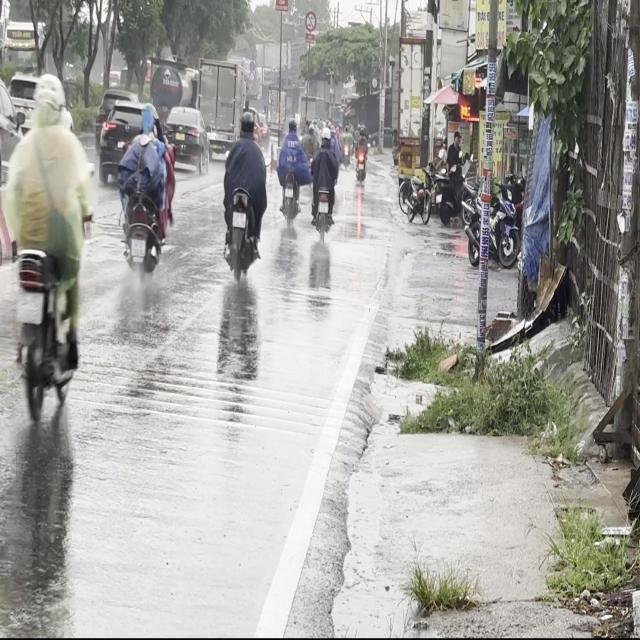helmet: (29, 71, 66, 129), (139, 104, 156, 135), (239, 109, 254, 135)
licenseplate: (1, 70, 94, 430), (116, 101, 172, 282), (220, 108, 268, 280)
nohelmet: (16, 291, 42, 322), (131, 239, 145, 256), (233, 212, 246, 227)
